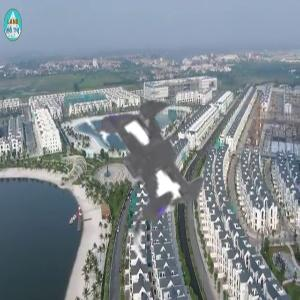drone: (6, 7, 298, 299)
